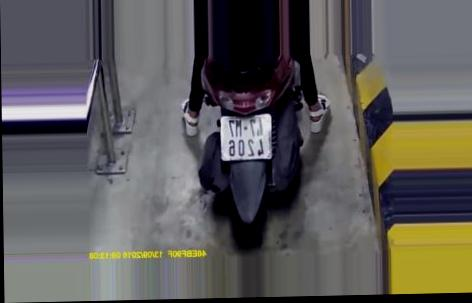License_Plate: (213, 110, 277, 162)
